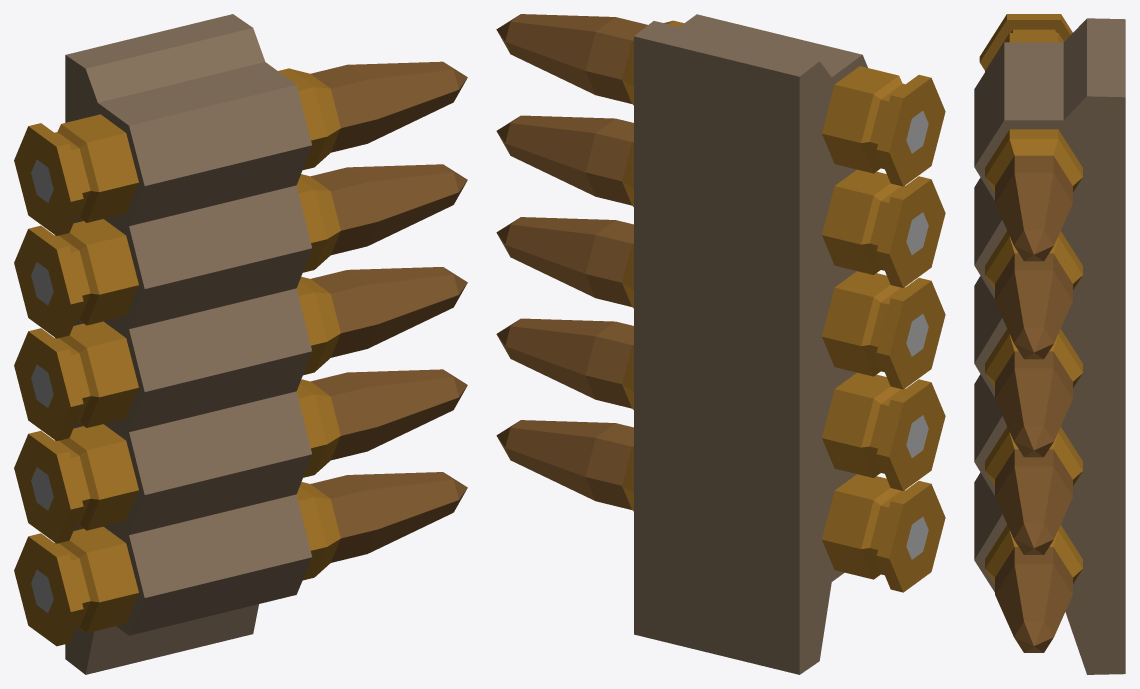
The model's file is Bullets_03_SM.FBX.
The picture shows the model from 3 angles, left to right: view 1: azimuth 30°, elevation 25°; view 2: azimuth 150°, elevation 25°; view 3: azimuth 270°, elevation 25°; orthographic projection. The views are drawn at different scales.
Parts seen in each view (by area): view 1: Bullets_03_SM; view 2: Bullets_03_SM; view 3: Bullets_03_SM.
Part boxes in pixels (x1=…): Bullets_03_SM: x1=14, y1=14, x2=467, y2=674; Bullets_03_SM: x1=496, y1=14, x2=945, y2=674; Bullets_03_SM: x1=974, y1=14, x2=1125, y2=674.
Size of what is drawn, in the model's own units: 7.14 by 2.3 by 9.72.
